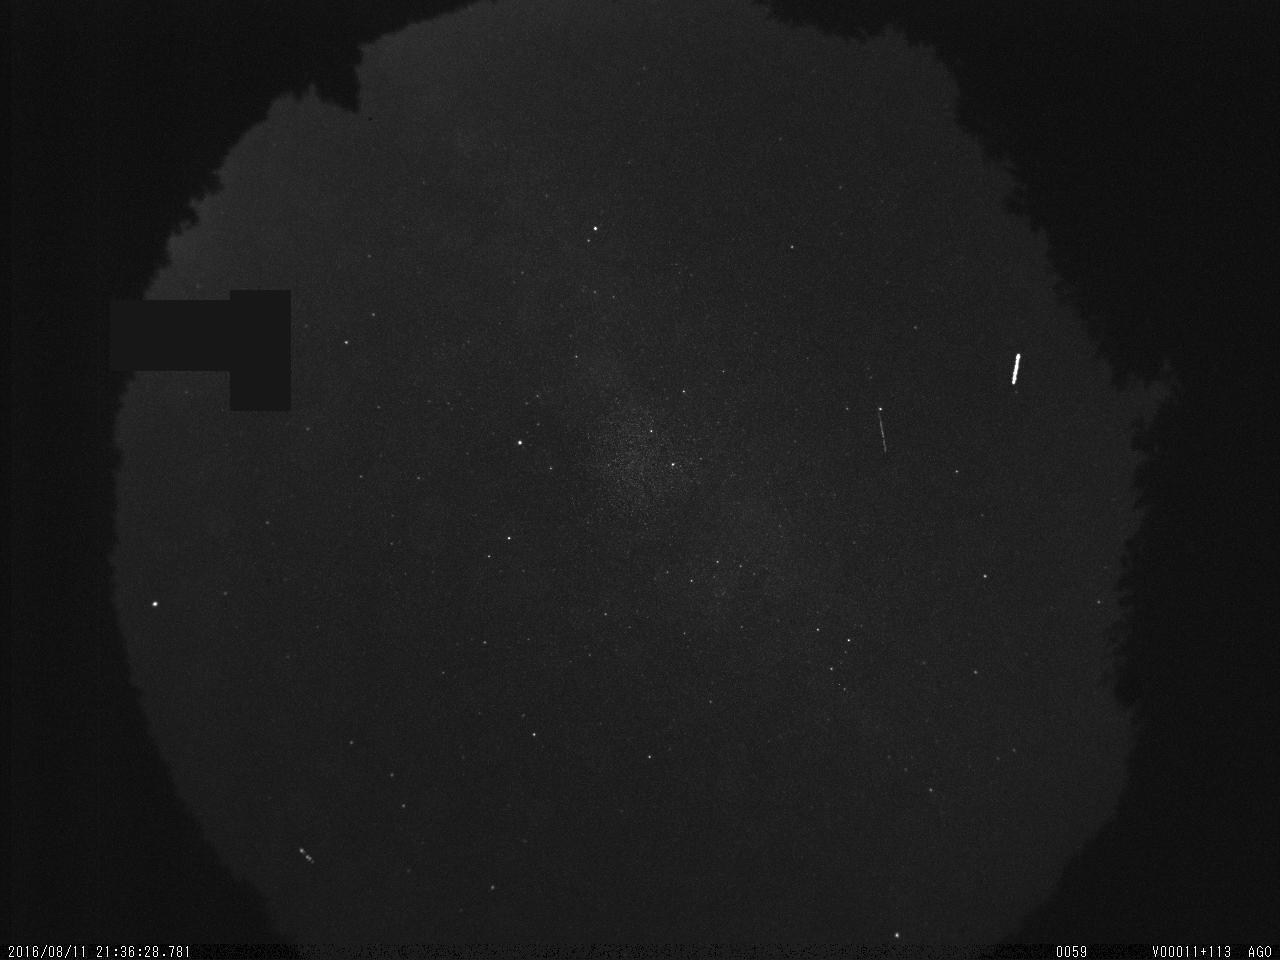meteor: (869, 399, 895, 464)
satelite: (1008, 342, 1029, 394)
